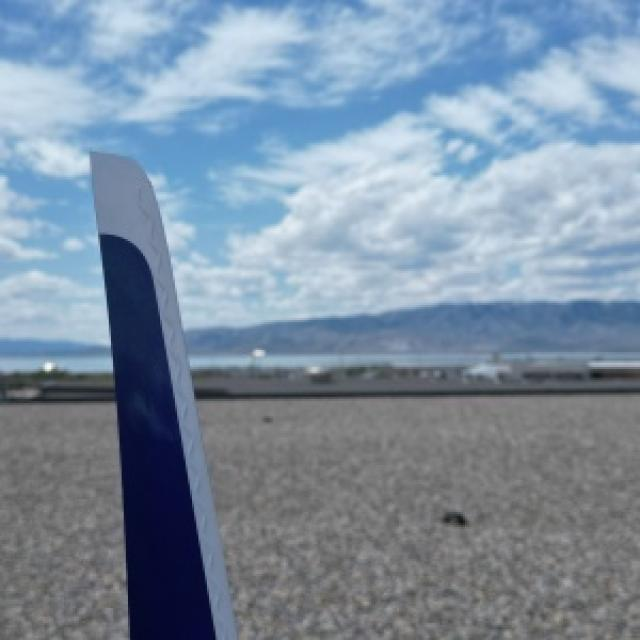healthy: (90, 151, 235, 638)
